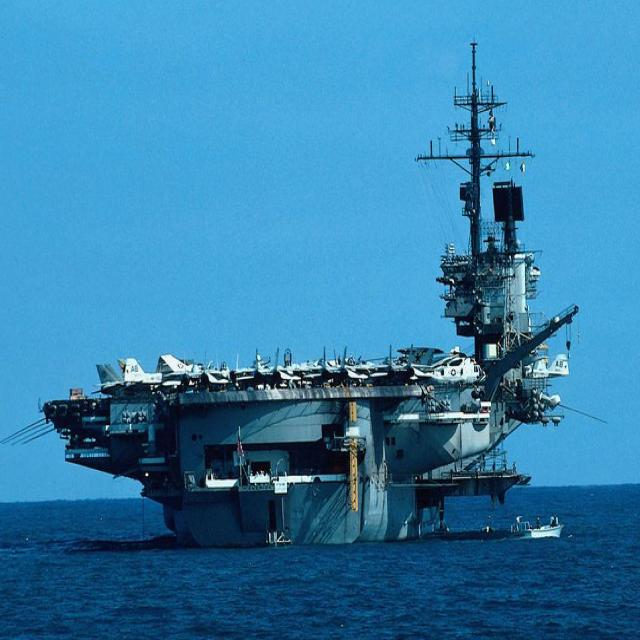navalvessels: (37, 33, 580, 538)
